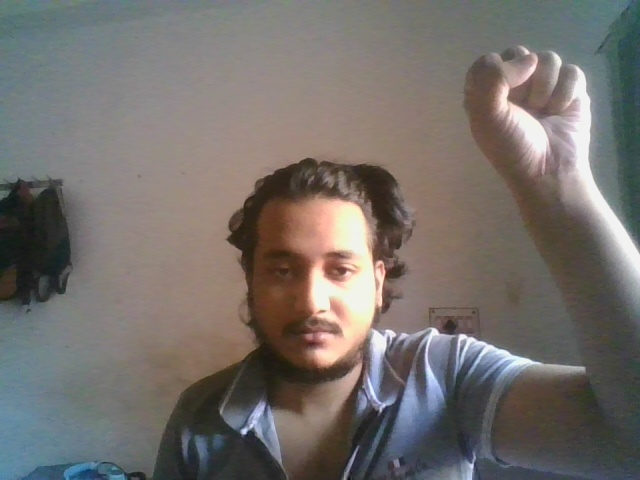Close: (463, 44, 594, 176)
